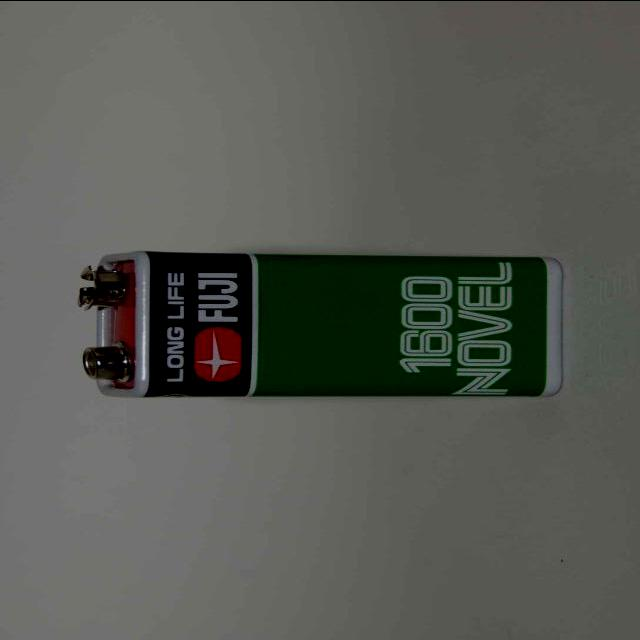9V: (72, 249, 569, 401)
